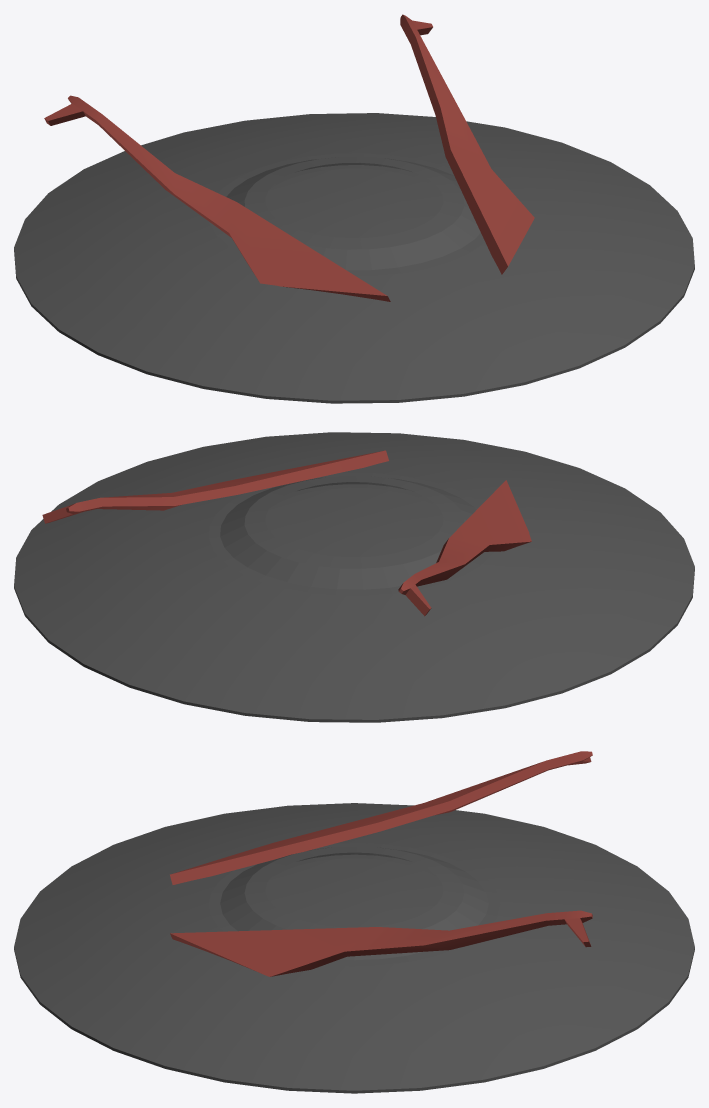
File: AoMang-M.fbx
3 renders of one model, top to bottom at view 1: azimuth 30°, elevation 25°; view 2: azimuth 150°, elevation 25°; view 3: azimuth 270°, elevation 25°, orthographic.
Parts seen in each view (by area): view 1: Cylinder001; view 2: Cylinder001; view 3: Cylinder001.
Part boxes in pixels (box(x1,y1,x2,y2)): Cylinder001: box(14, 14, 694, 403); Cylinder001: box(14, 432, 694, 722); Cylinder001: box(14, 751, 694, 1093).
Bounding box in the file's own units: 22 × 4.25 × 22.
